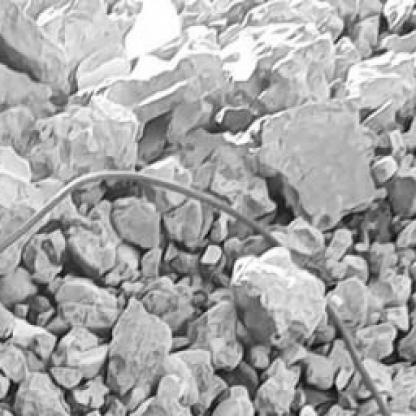cementitious_debris: (1, 111, 414, 411)
